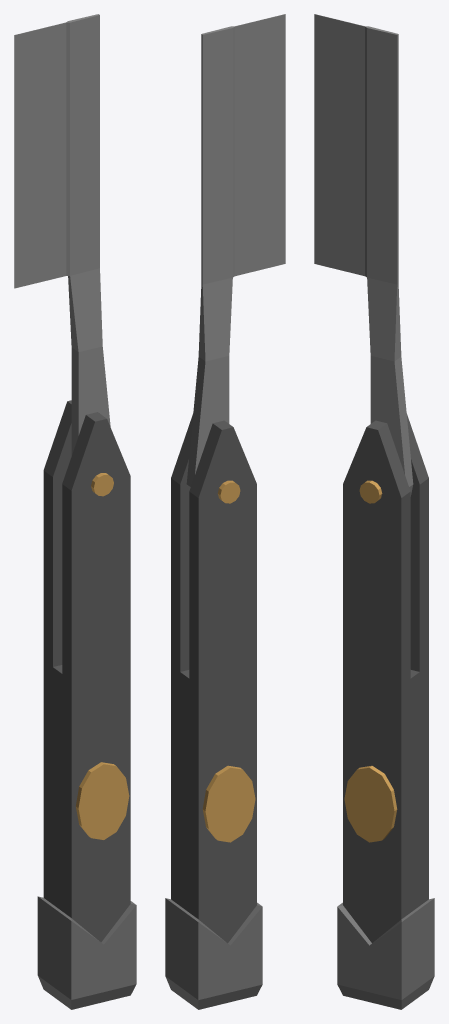
File: Razor Blade.fbx
The picture shows the model from 3 angles, left to right: view 1: azimuth 30°, elevation 25°; view 2: azimuth 210°, elevation 25°; view 3: azimuth 330°, elevation 25°; orthographic projection.
Parts seen in each view (by area): view 1: Handle, Razor Blade; view 2: Handle, Razor Blade; view 3: Handle, Razor Blade.
Boxes of the visible parts, <box> form: Handle: <box>37,400,136,1009</box>; Razor Blade: <box>14,14,110,455</box>; Handle: <box>165,413,262,1009</box>; Razor Blade: <box>186,14,285,496</box>; Handle: <box>337,413,434,1009</box>; Razor Blade: <box>314,14,413,496</box>.
Bounding box in the file's own units: 26.08 × 231 × 14.4.
